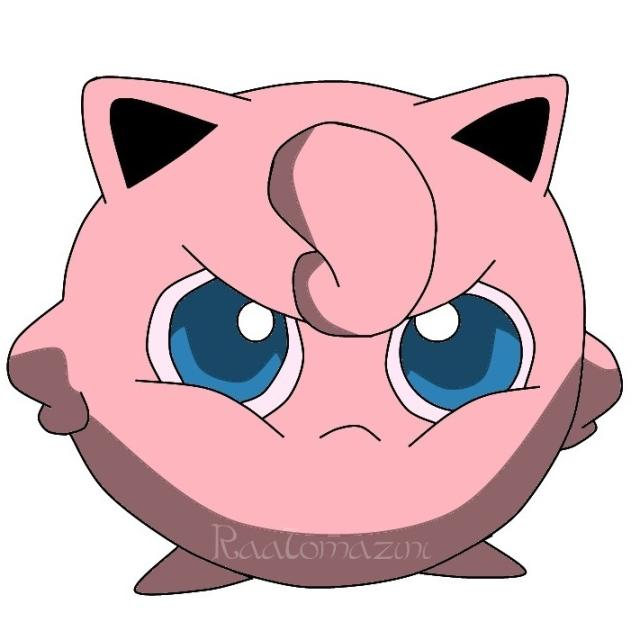Jigglypuff: (0, 54, 633, 600)
